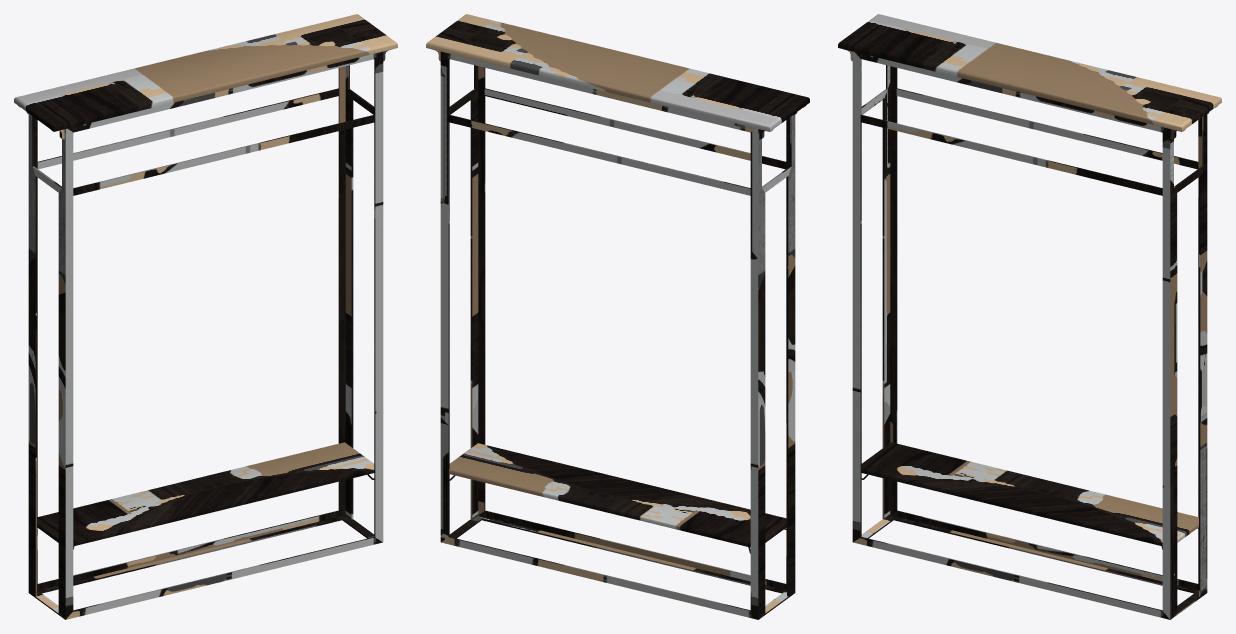
File: Restaurant_BarShelf.glb
The picture shows the model from 3 angles, left to right: view 1: azimuth 30°, elevation 25°; view 2: azimuth 150°, elevation 25°; view 3: azimuth 330°, elevation 25°; orthographic projection.
Visible parts, largest first — view 1: Restaurant_BarShelf_1; view 2: Restaurant_BarShelf_1; view 3: Restaurant_BarShelf_1.
Boxes of the visible parts, x1,y1,x2,y2 form: Restaurant_BarShelf_1: (14, 14, 397, 619); Restaurant_BarShelf_1: (426, 14, 809, 619); Restaurant_BarShelf_1: (838, 14, 1221, 619).
Bounding box in the file's own units: 2.16 × 3 × 0.4354.
1 material, 1 textured.
